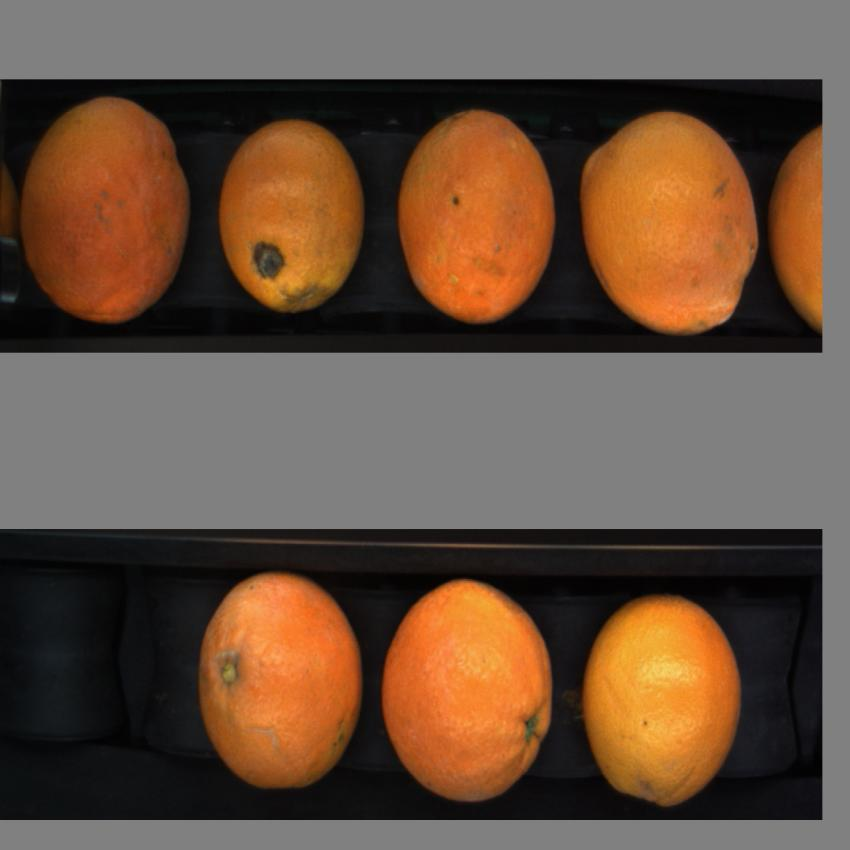Buen estado: (572, 95, 762, 338), (375, 567, 564, 811), (578, 580, 754, 812), (194, 566, 367, 796), (769, 121, 822, 326)
Mal estado: (18, 92, 194, 325), (395, 103, 560, 324), (209, 112, 373, 315)
